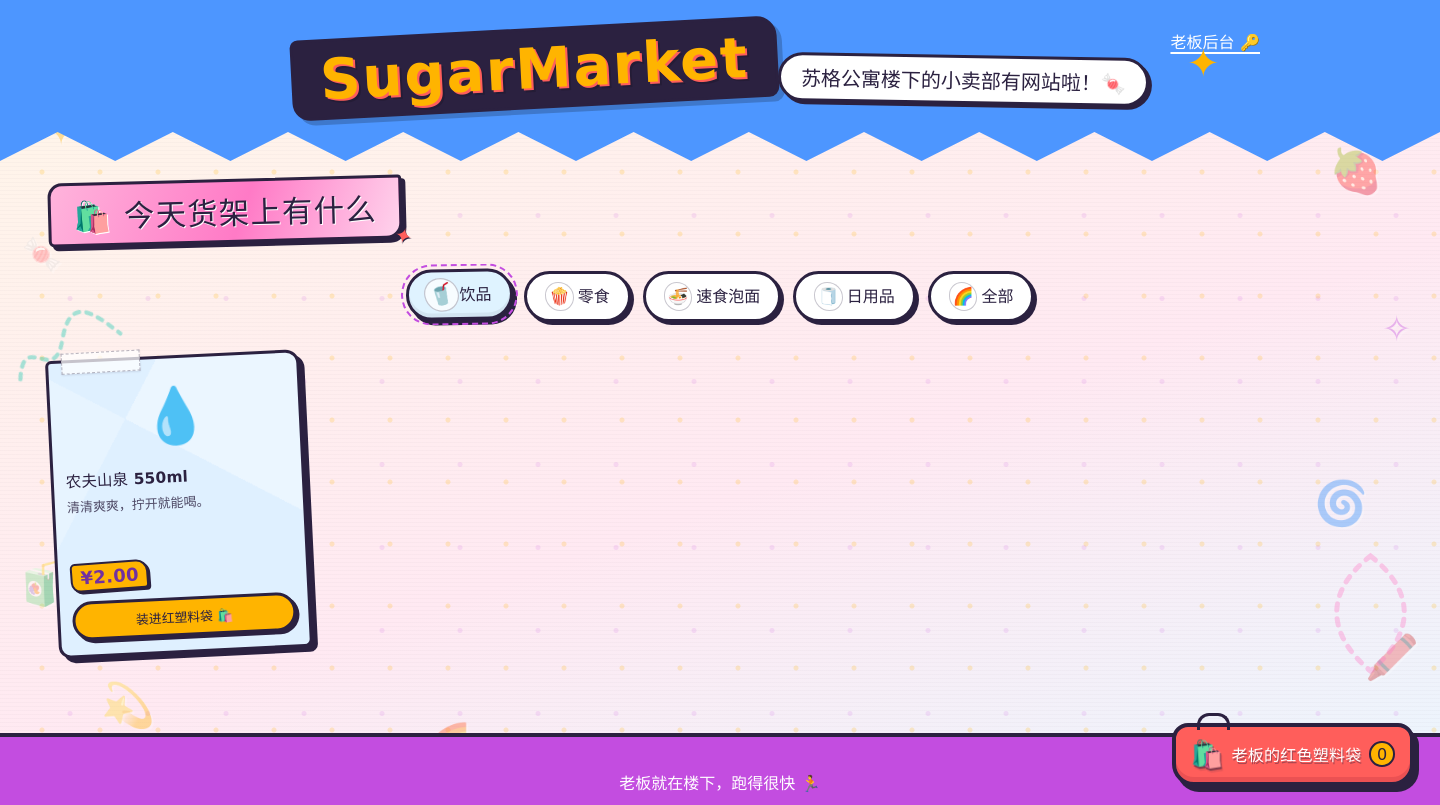
Test case: storefront catalog and checkout › adds products to a persistent cart and submits only ids and quantities
The image size is (1440, 805).
Expected: the heading "农夫山泉 550ml" is shown, [65, 467, 188, 491]
Click the button "装进红塑料袋 🛍️": (185, 616) [72, 591, 298, 641]
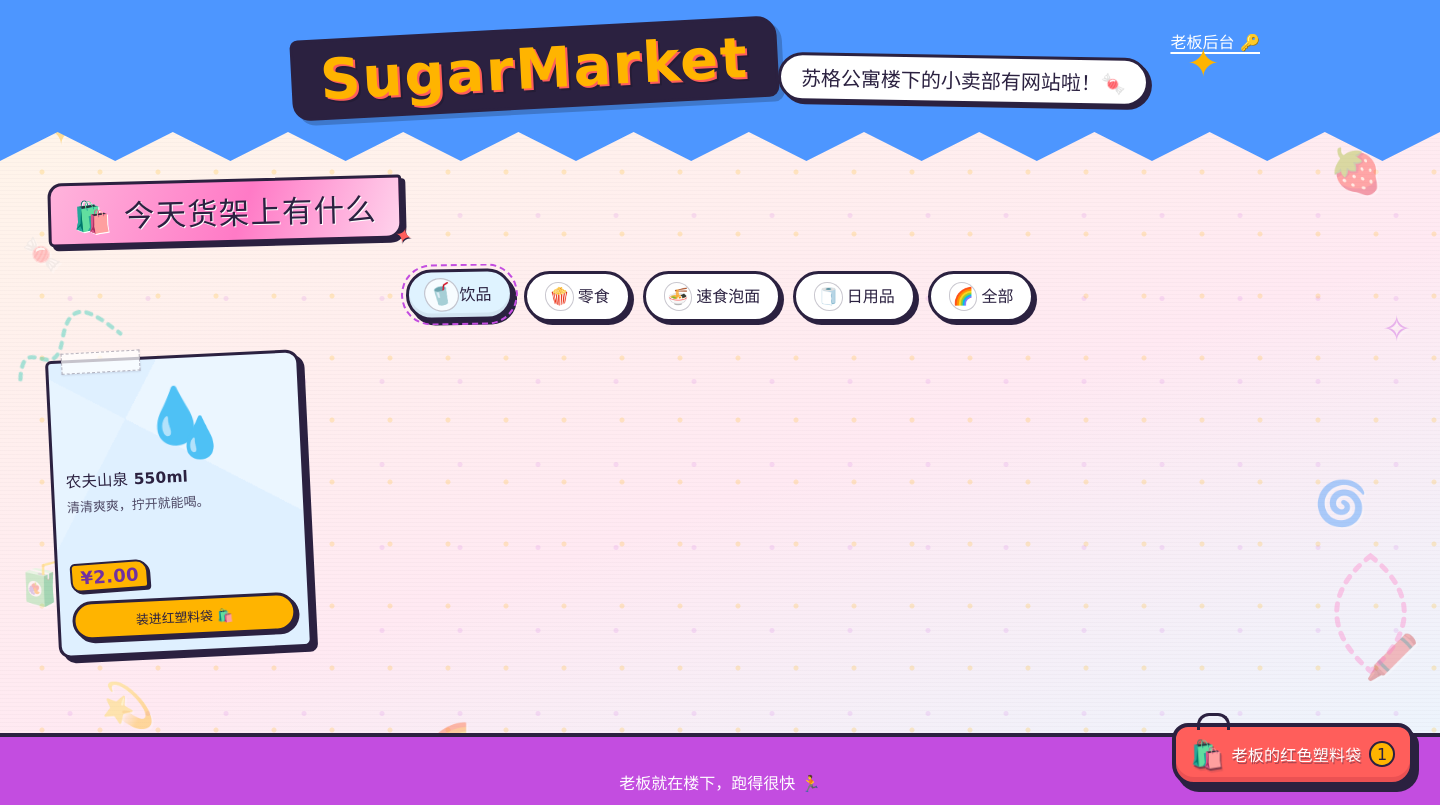
Expected: the text with class "flying-emoji" is shown, [175, 417, 225, 457]
Click the button with aria-label "老板的红色塑料袋，共1件": (1293, 754) [1172, 723, 1414, 786]
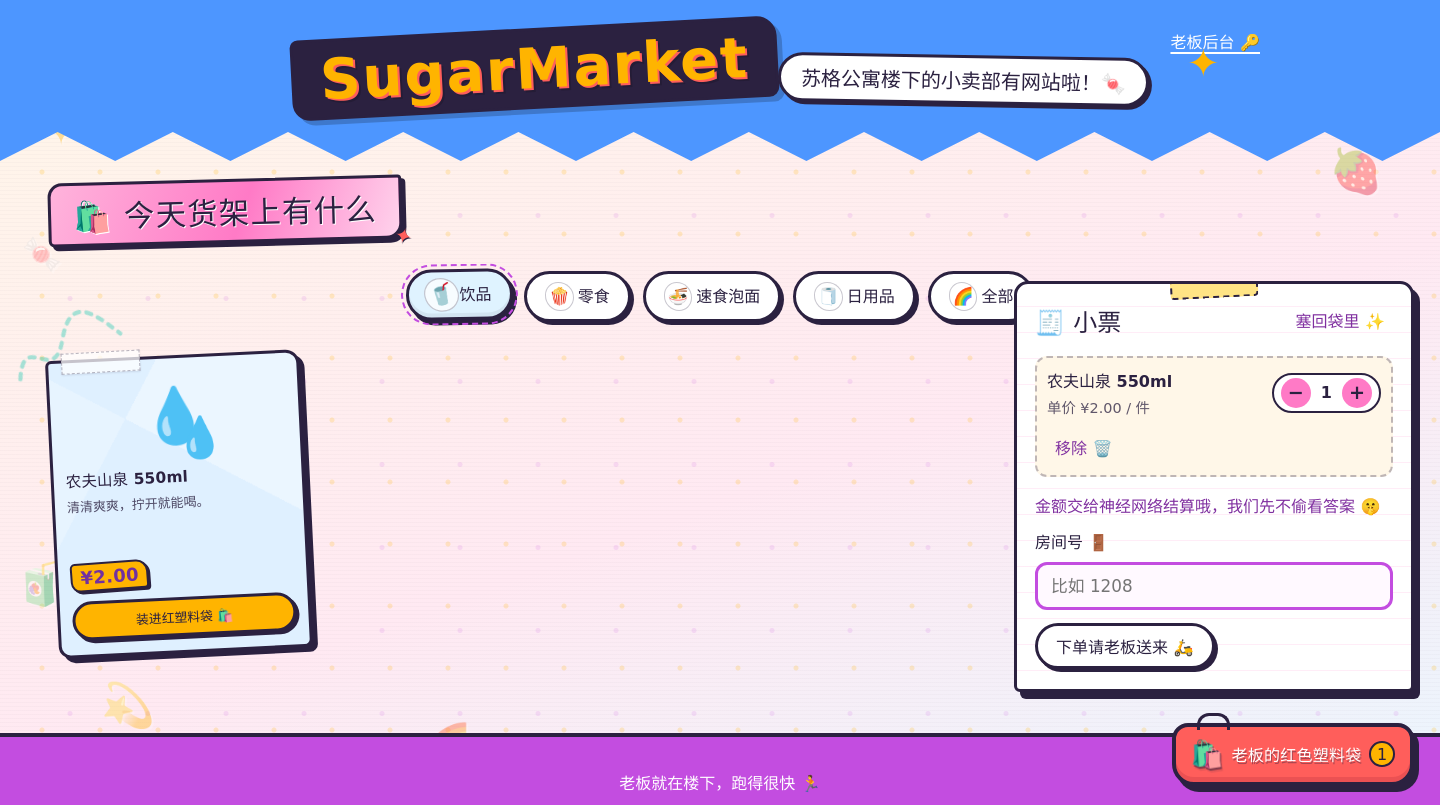
Expected: the text "单价 ¥2.00 / 件" is shown, [1047, 400, 1150, 416]
Expected: the element with class "cart-panel" is shown, [1014, 281, 1414, 692]
In the field labelled "房间号 🚪": (1214, 586) [1035, 562, 1393, 610], type "1208"
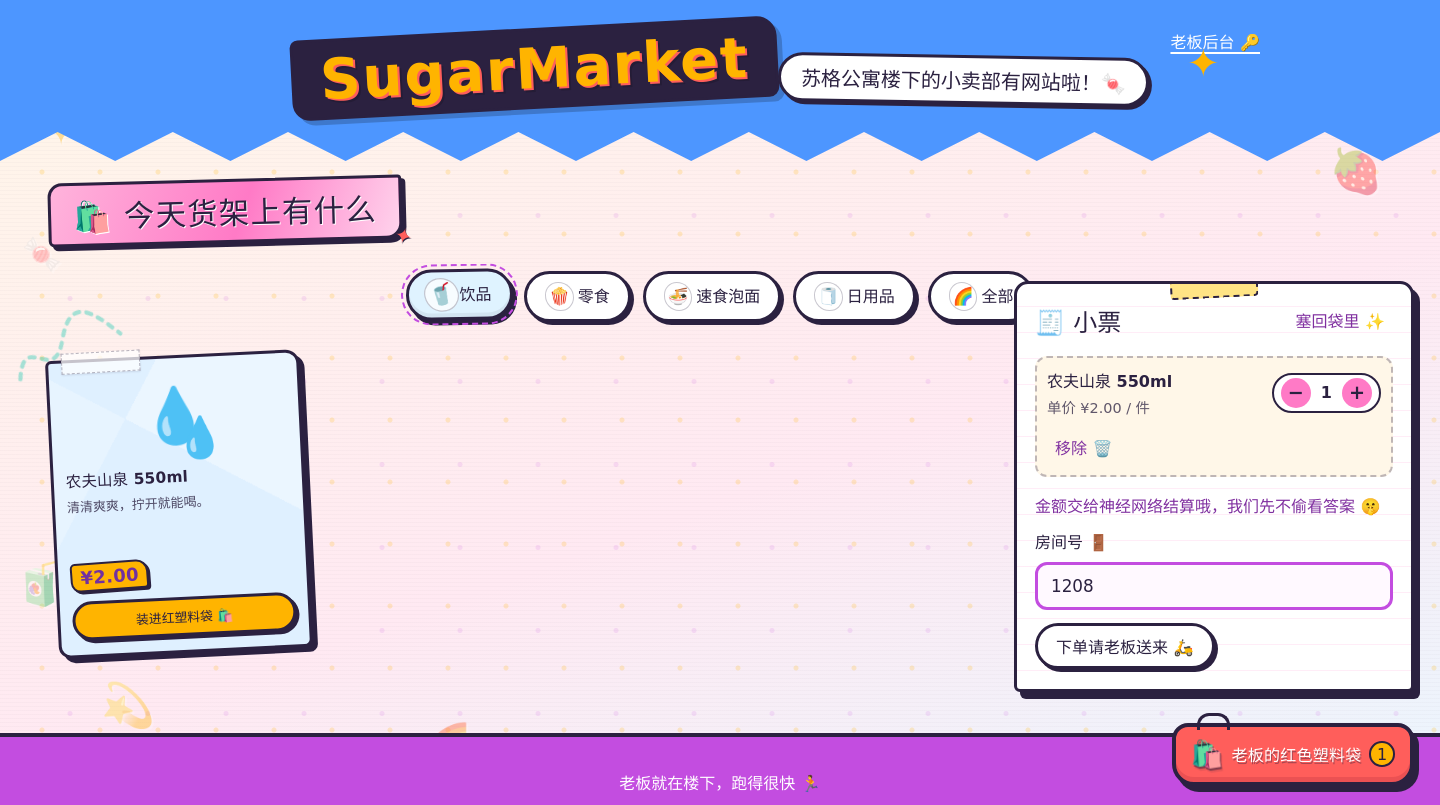
Click the button "下单请老板送来 🛵": (1125, 646) [1035, 623, 1214, 669]
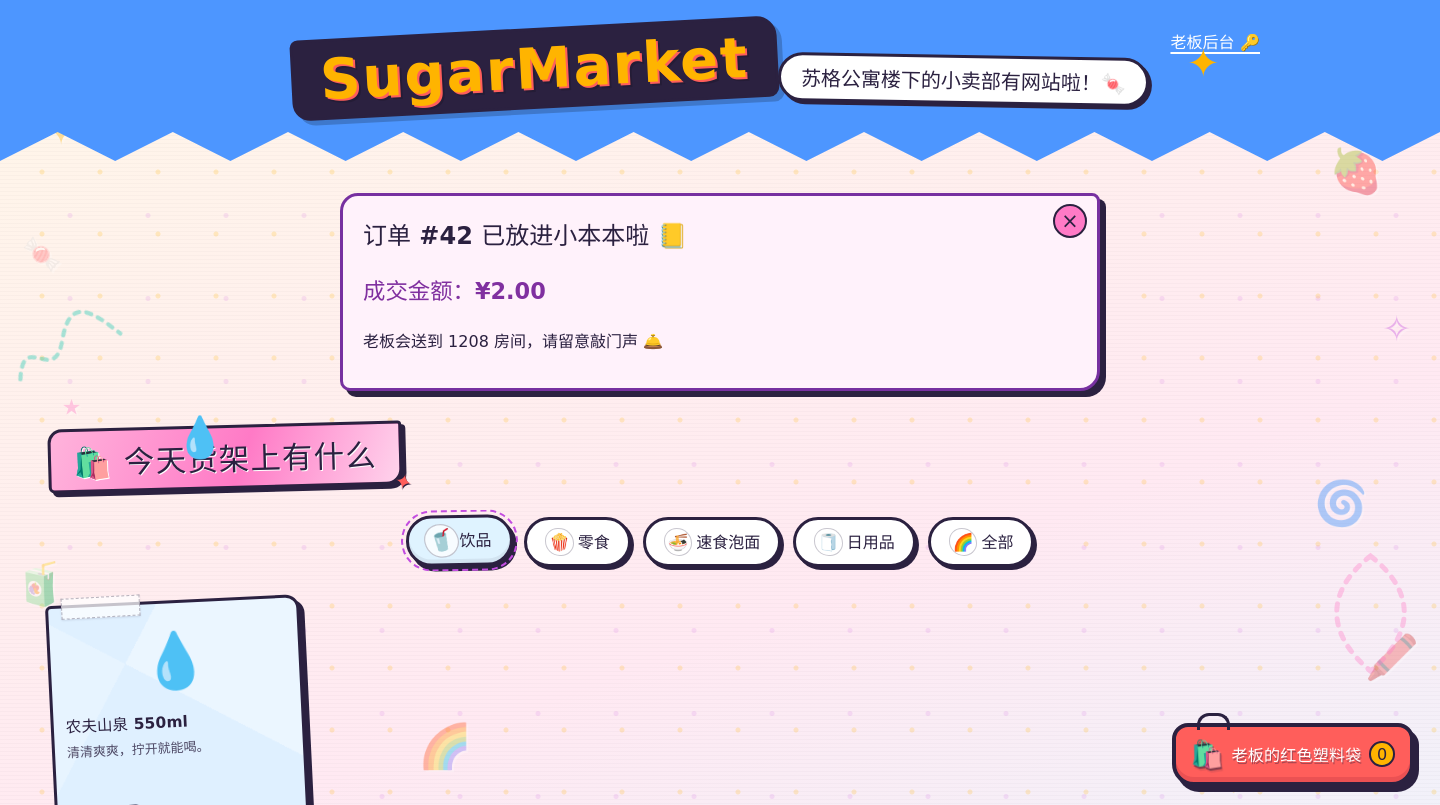
Expected: the heading "订单 #42 已放进小本本啦 📒" is shown, [363, 222, 688, 250]
Expected: the text "成交金额：¥2.00" is shown, [363, 278, 546, 304]
